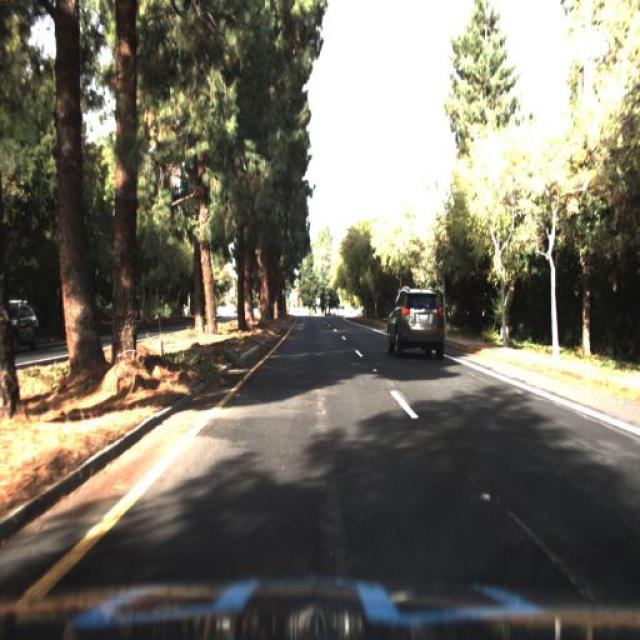car: (385, 282, 449, 358), (1, 299, 42, 355)
